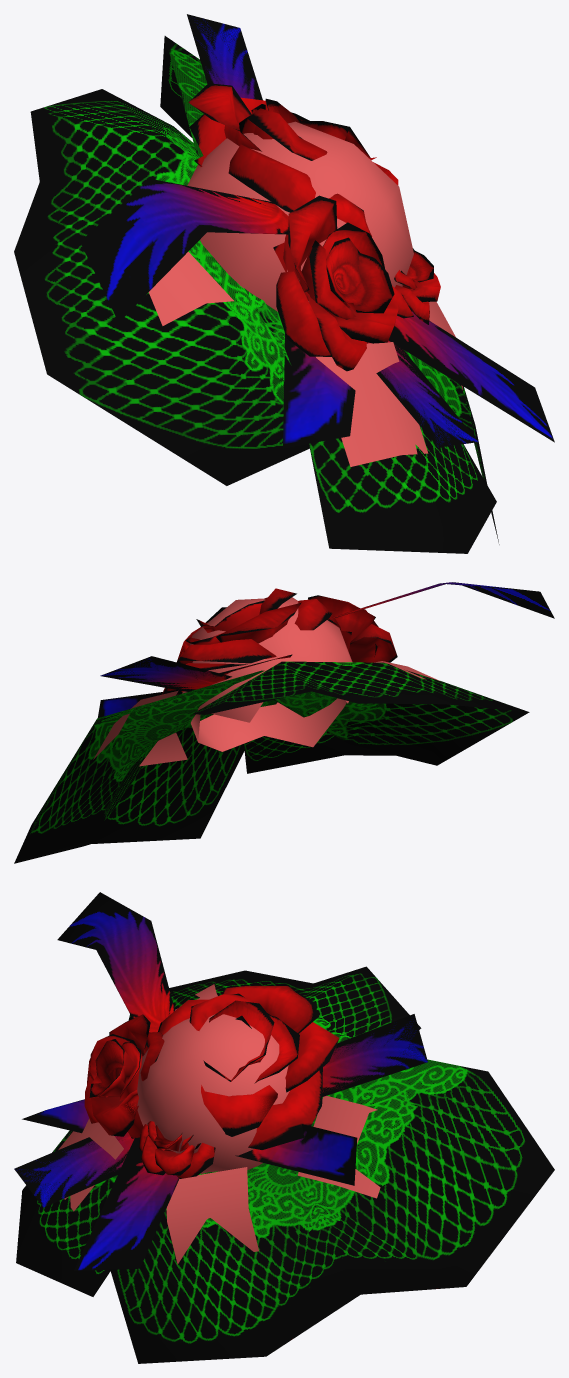
3 views of the same model, one above another, from view 1: azimuth 30°, elevation 25°; view 2: azimuth 150°, elevation 25°; view 3: azimuth 270°, elevation 25° (orthographic). The views are drawn at different scales.
Parts seen in each view (by area): view 1: B1294, "Editable Poly"; view 2: B1294, "Editable Poly"; view 3: B1294, "Editable Poly".
Part boxes in pixels (x1=…): B1294: x1=14, y1=14, x2=554, y2=553; "Editable Poly": x1=148, y1=121, x2=462, y2=466; B1294: x1=14, y1=582, x2=554, y2=863; "Editable Poly": x1=93, y1=597, x2=439, y2=766; B1294: x1=14, y1=892, x2=554, y2=1363; "Editable Poly": x1=58, y1=984, x2=380, y2=1264.
Bounding box in the file's own units: 0.4444 × 0.3635 × 0.5528.
